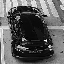mobil: (6, 5, 56, 59)
